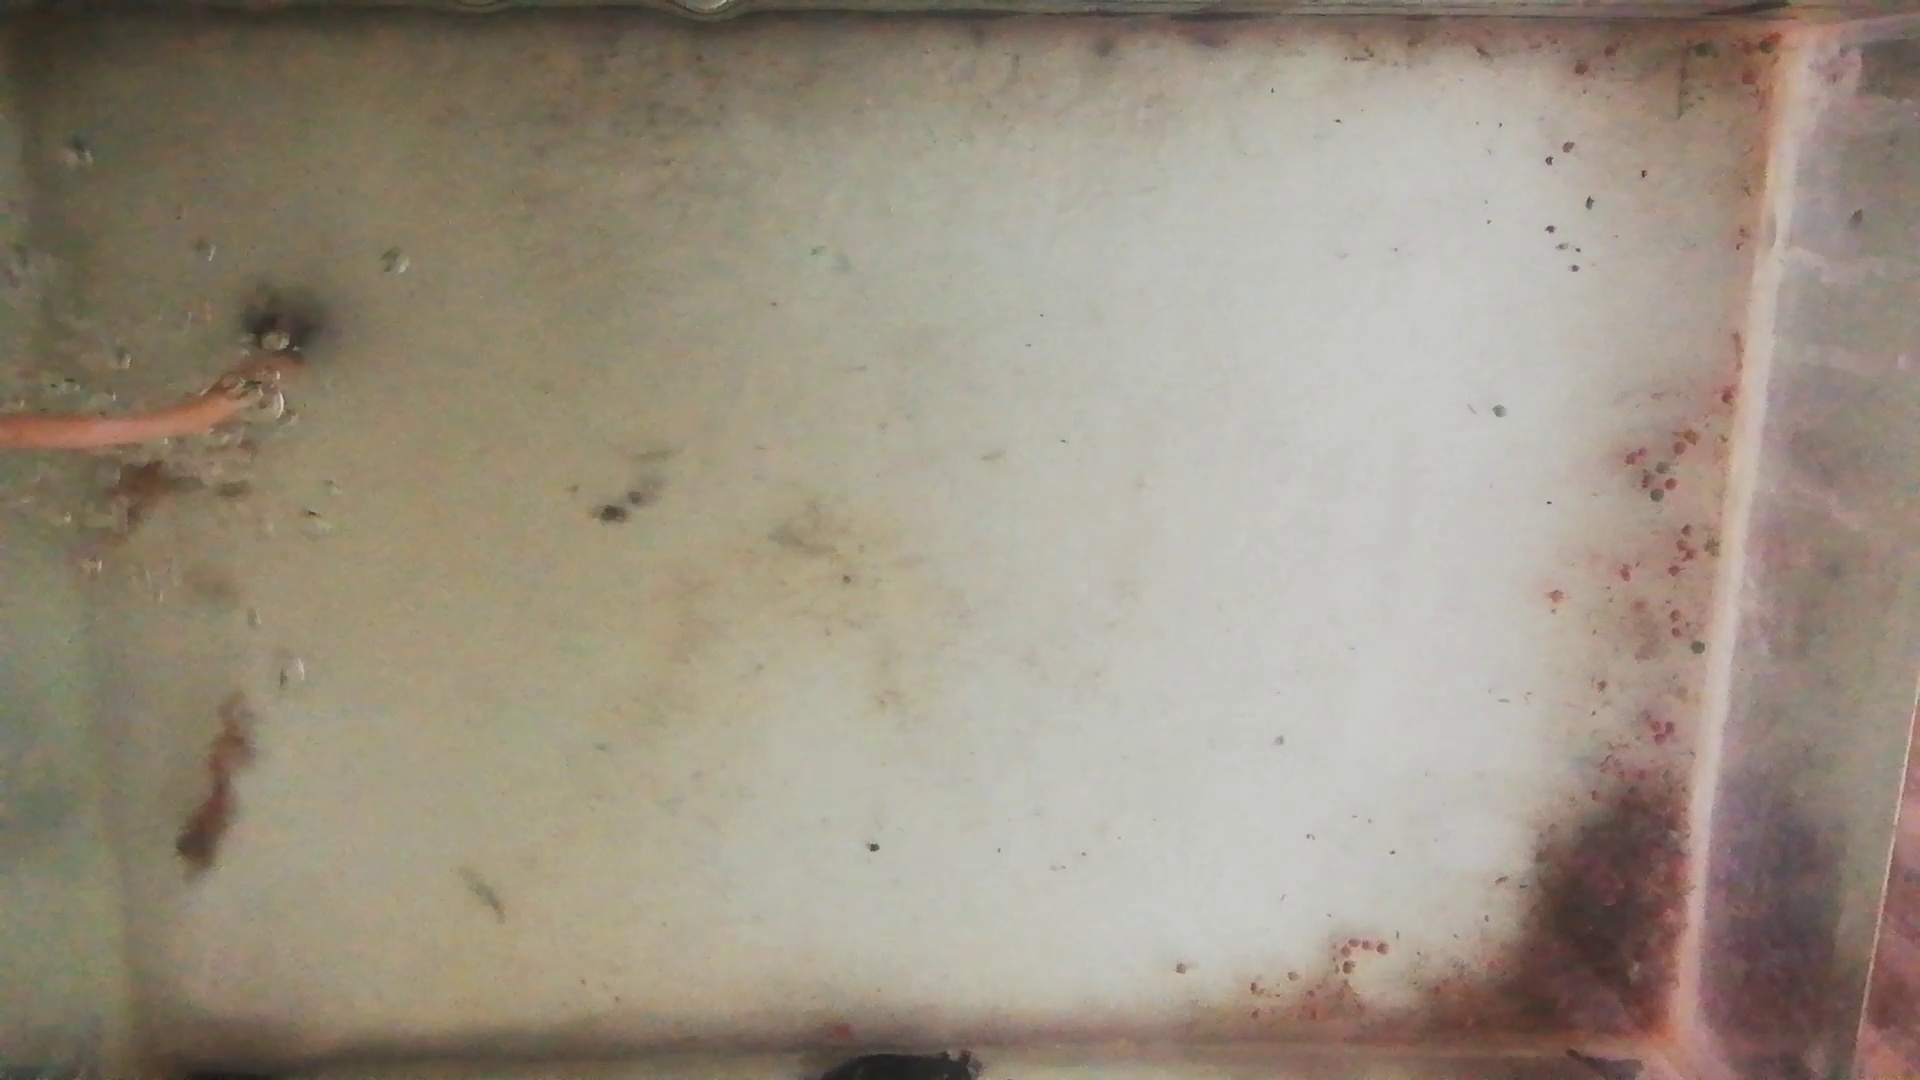fish: (171, 694, 257, 876), (98, 438, 255, 512)
